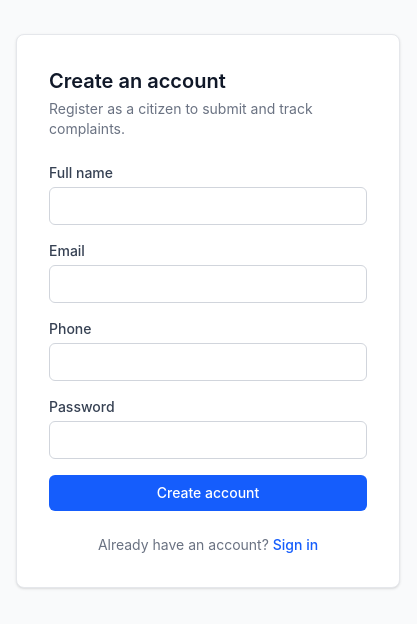
Scenario: RegisterPage › falls back to the top-level API message when there are no field errors
The image size is (417, 624).
Step 1. Type "Jane Citizen" into the field labelled "Full name" → (208, 206), box [49,187,367,225]
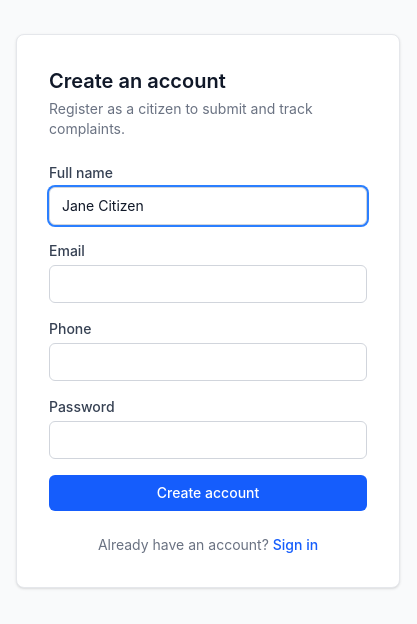
Step 2. Type "jane@example.com" into the field labelled "Email" → (208, 284), box [49,265,367,303]
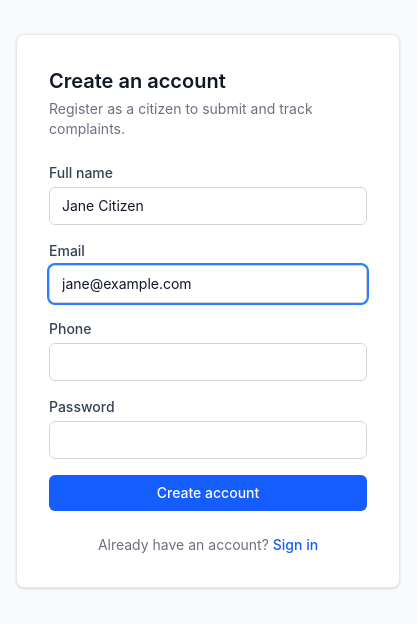
Step 3. Type "1234567890" into the field labelled "Phone" → (208, 362), box [49,343,367,381]
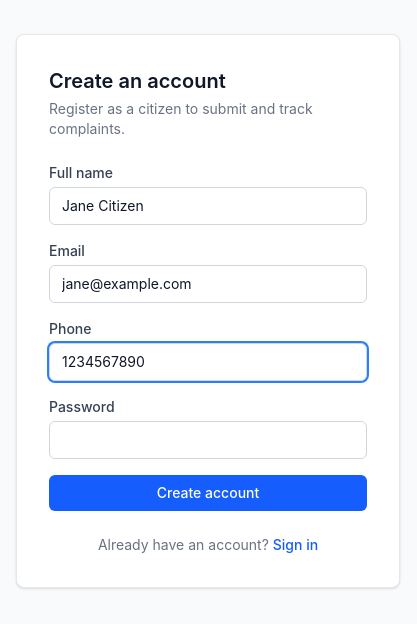
Step 4. Type "password123" into the password field labelled "Password" → (208, 440), box [49,421,367,459]
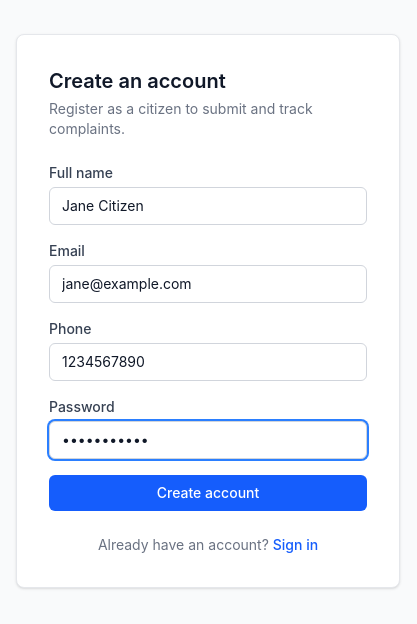
Step 5. Click the button "Create account" → (208, 493), box [49,475,367,511]
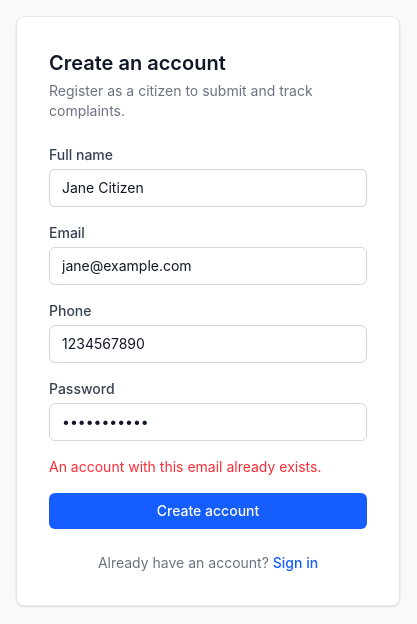
Now the text "An account with this email already exists." is shown, box [49,457,367,477]
